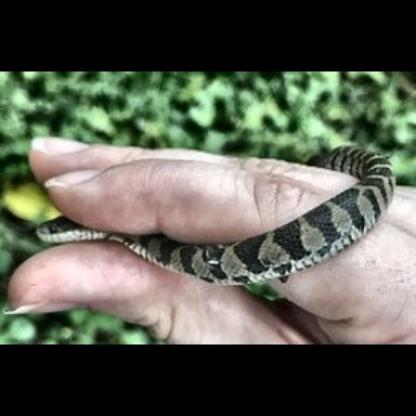Snake: (35, 126, 412, 284)
